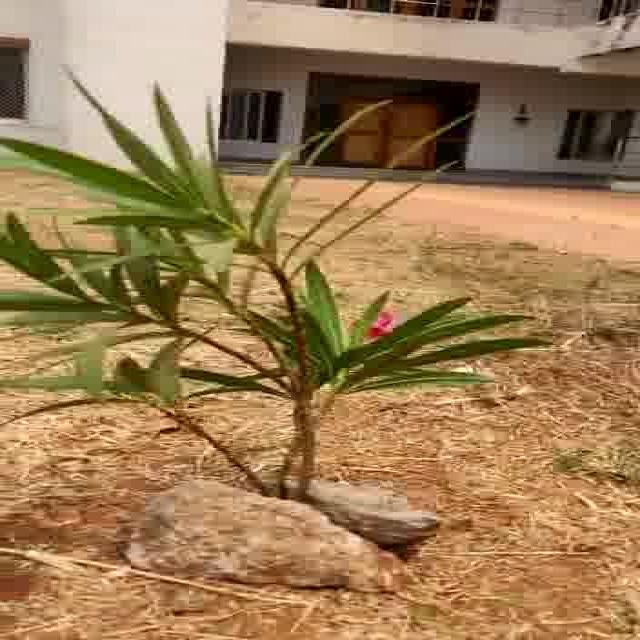Oleander: (0, 93, 595, 488)
